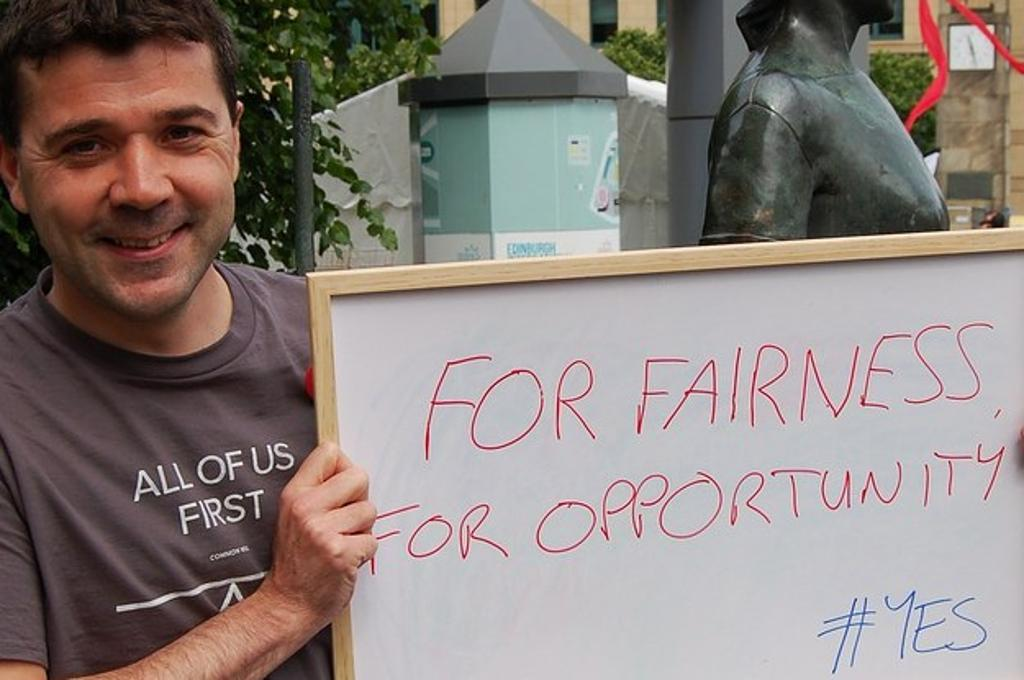face: (13, 35, 237, 317)
